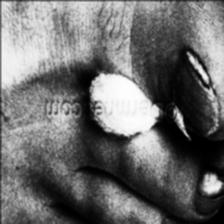Unclassified: (0, 136, 150, 210), (180, 20, 224, 201)
